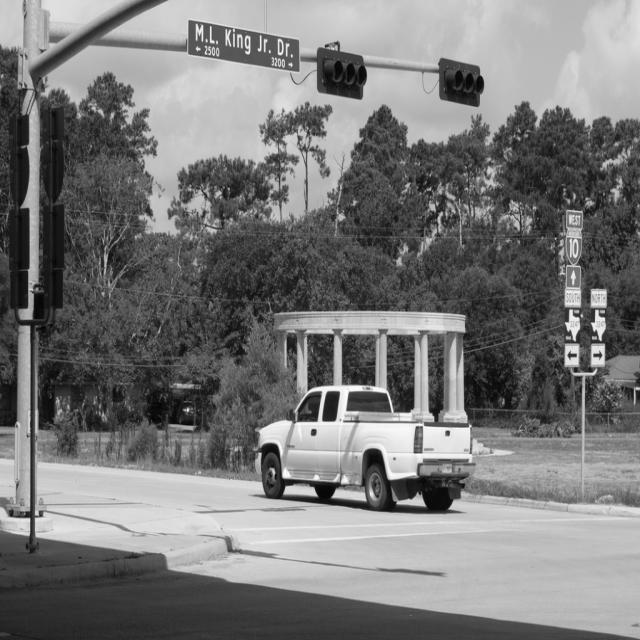off traffic light: (312, 45, 367, 99), (438, 55, 485, 115)
